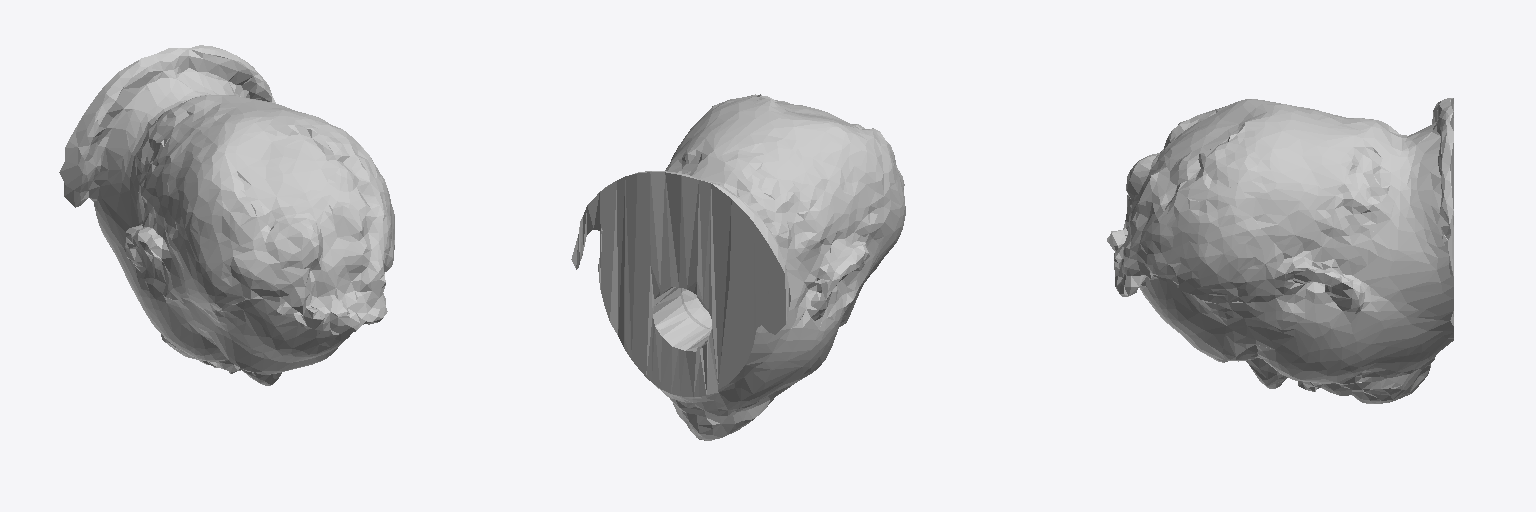
File: 49316-face_Clustering_50pct.obj
The picture shows the model from 3 angles: view 1: azimuth 30°, elevation 25°; view 2: azimuth 150°, elevation 25°; view 3: azimuth 270°, elevation 25°; orthographic projection.
Size of the model in its own units: 0.7315 by 0.9167 by 1.